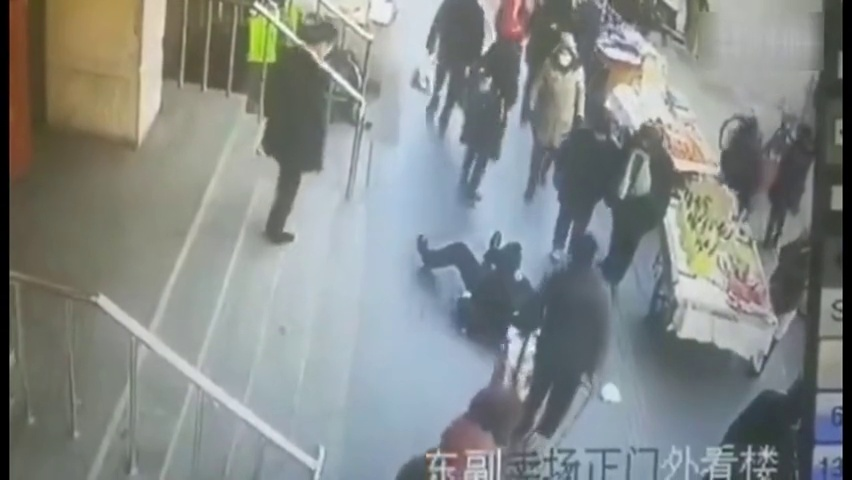fall: (412, 225, 537, 315)
nofall: (267, 17, 338, 246), (538, 237, 616, 435), (610, 121, 674, 288), (526, 32, 578, 200), (555, 105, 618, 232), (422, 4, 479, 139), (456, 67, 506, 197), (761, 116, 808, 245)
